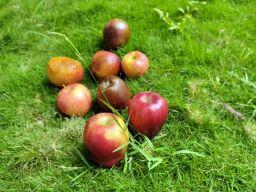apple: (82, 113, 133, 171), (127, 90, 170, 138), (54, 79, 95, 121), (47, 51, 86, 89), (88, 47, 126, 82), (99, 15, 136, 49), (94, 76, 132, 107), (119, 47, 151, 79)
